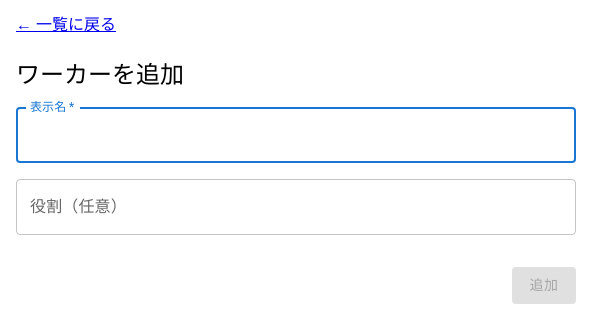
Test: AddWorkerScene（#888） › 表示名を入力すると追加ボタンが有効になる
Type "テストワーカー" into the field labelled "表示名" at {"x": 296, "y": 135}, box x1=16 y1=107 x2=576 y2=163
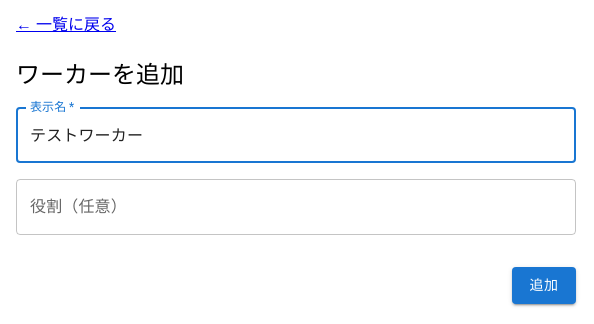
Result: the button "追加" is enabled at x1=512 y1=267 x2=576 y2=304
